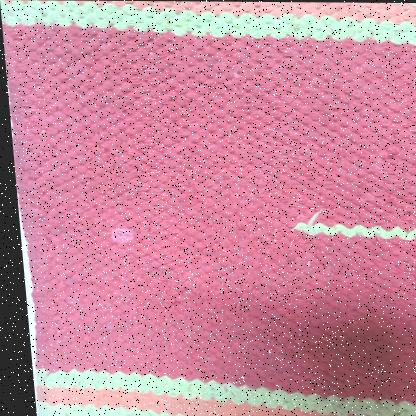spot: (95, 221, 153, 248)
